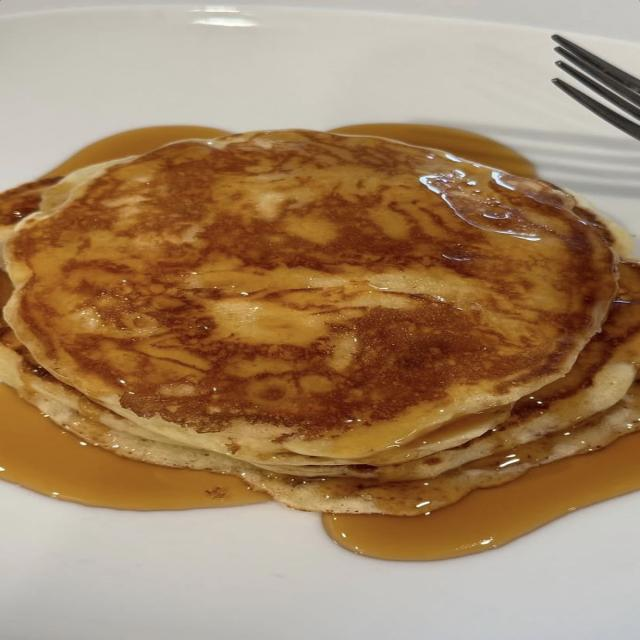pancake: (5, 131, 615, 464), (0, 344, 639, 515), (0, 178, 59, 242)
